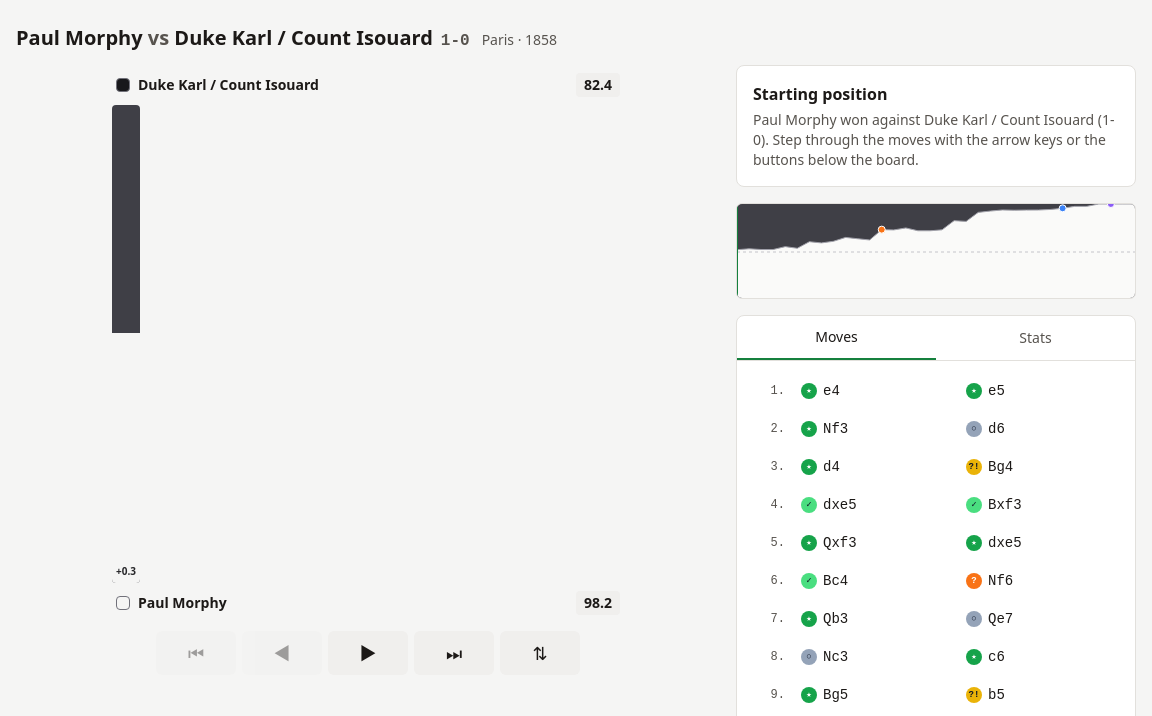
Test: ReviewView › shows statistics that reconcile with the move list
Click the tab "Stats": x=1036, y=338 [936, 316, 1135, 360]
(page scrolled)
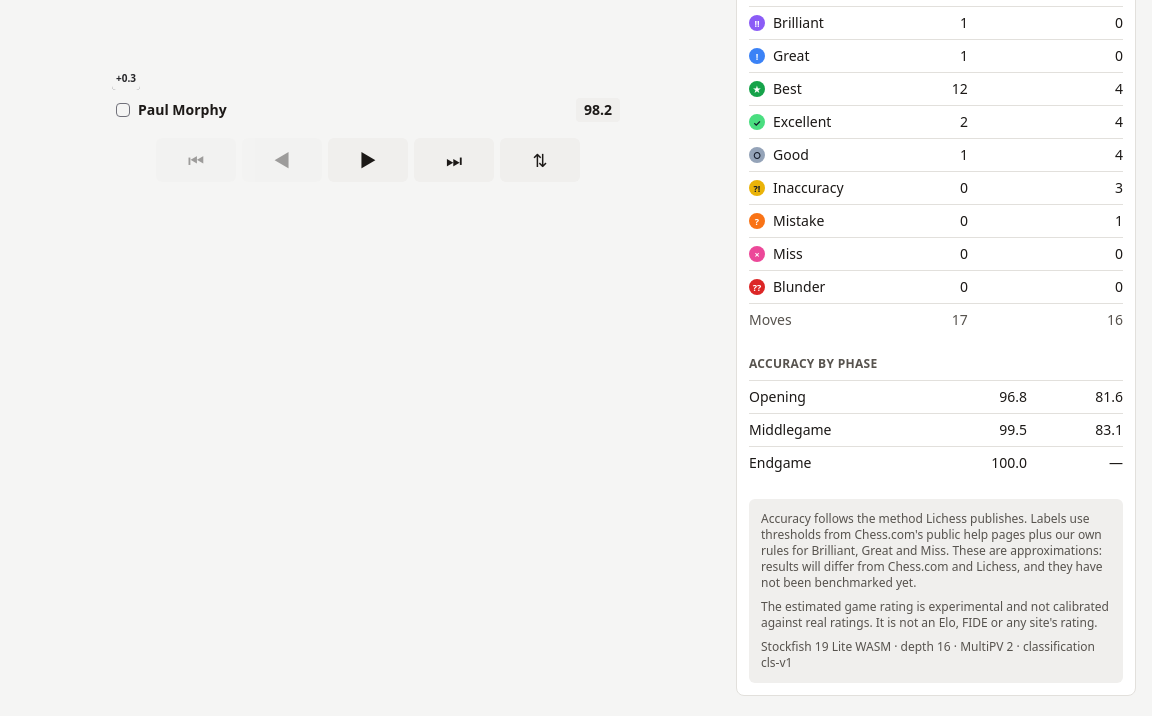
Result: the text with test id "review-settings" shows "depth 16" at [761, 639, 1111, 671]
